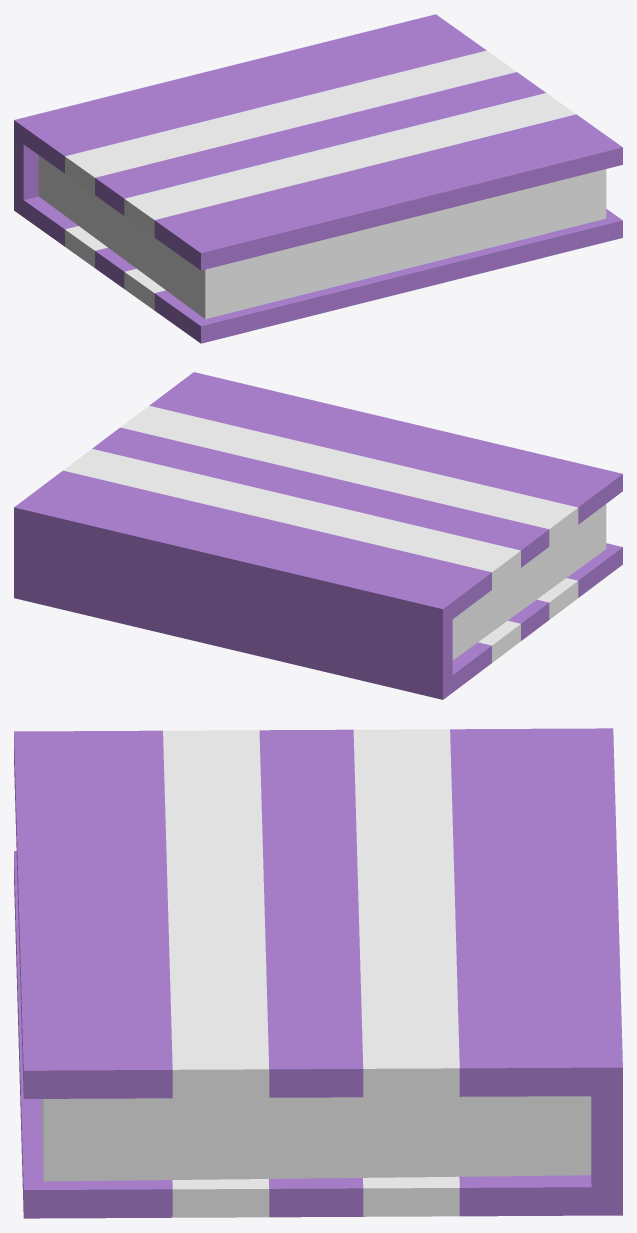
Rendered from Book_10.fbx.
3 views of the same model, one above another, from view 1: azimuth 30°, elevation 25°; view 2: azimuth 150°, elevation 25°; view 3: azimuth 270°, elevation 25° (orthographic). The views are drawn at different scales.
Parts seen in each view (by area): view 1: Book_10; view 2: Book_10; view 3: Book_10.
Part boxes in pixels (box(x1,y1,x2,y2)): Book_10: box(14, 14, 622, 343); Book_10: box(14, 372, 622, 699); Book_10: box(14, 728, 622, 1218).
Bounding box in the file's own units: 0.2293 × 0.0462 × 0.1725.
